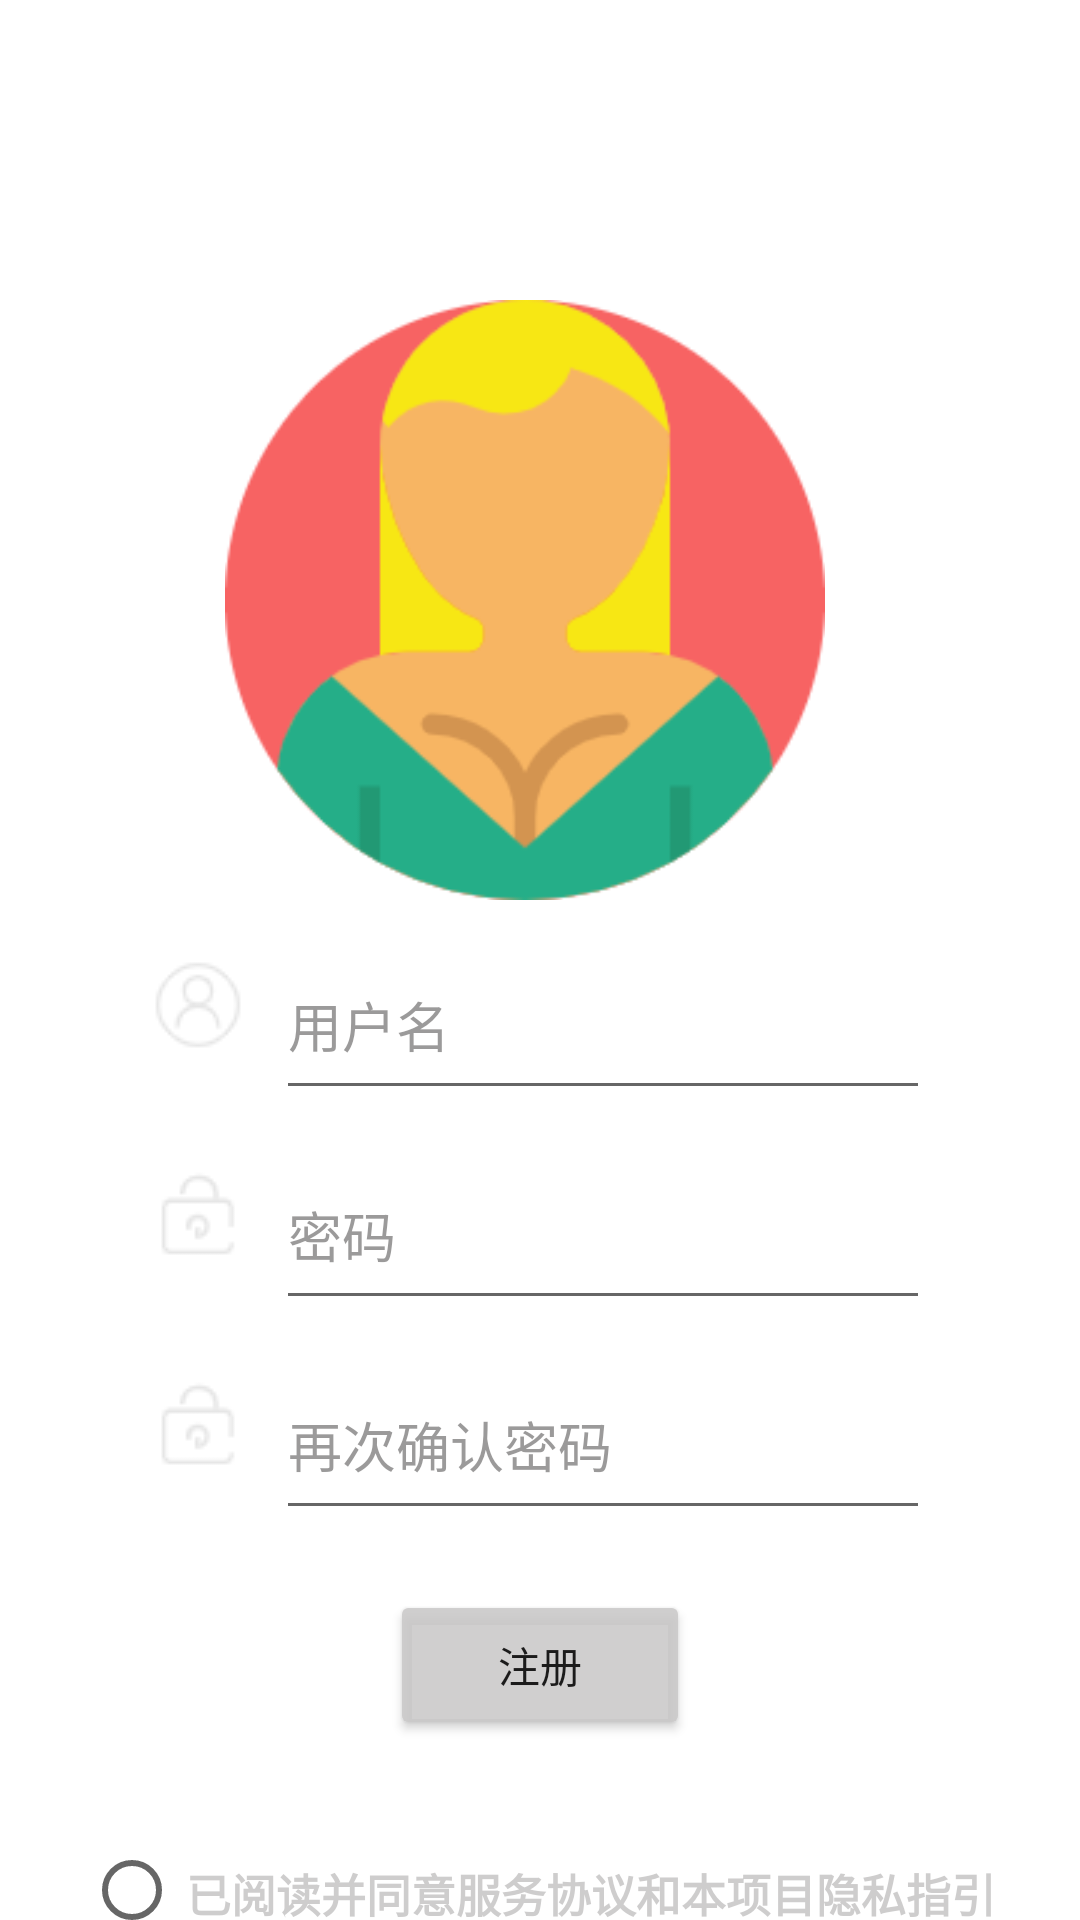

Named icons in this screenshot (1080px x 1920px) and their centers, point (x, y):
password: point (196, 1215), point (196, 1425)
username: point (198, 1005)
